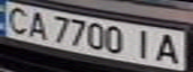0: (103, 24, 130, 56), (84, 20, 106, 52)
7: (45, 14, 72, 44), (66, 17, 87, 47)
A: (151, 30, 187, 65), (24, 9, 51, 40)
C: (0, 3, 33, 35)
I: (127, 27, 160, 61)
